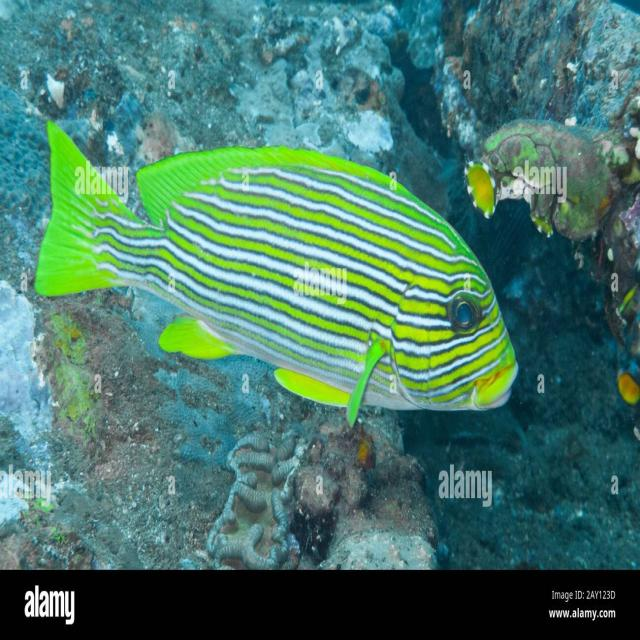RibbonedSweetlips: (33, 117, 519, 426)
